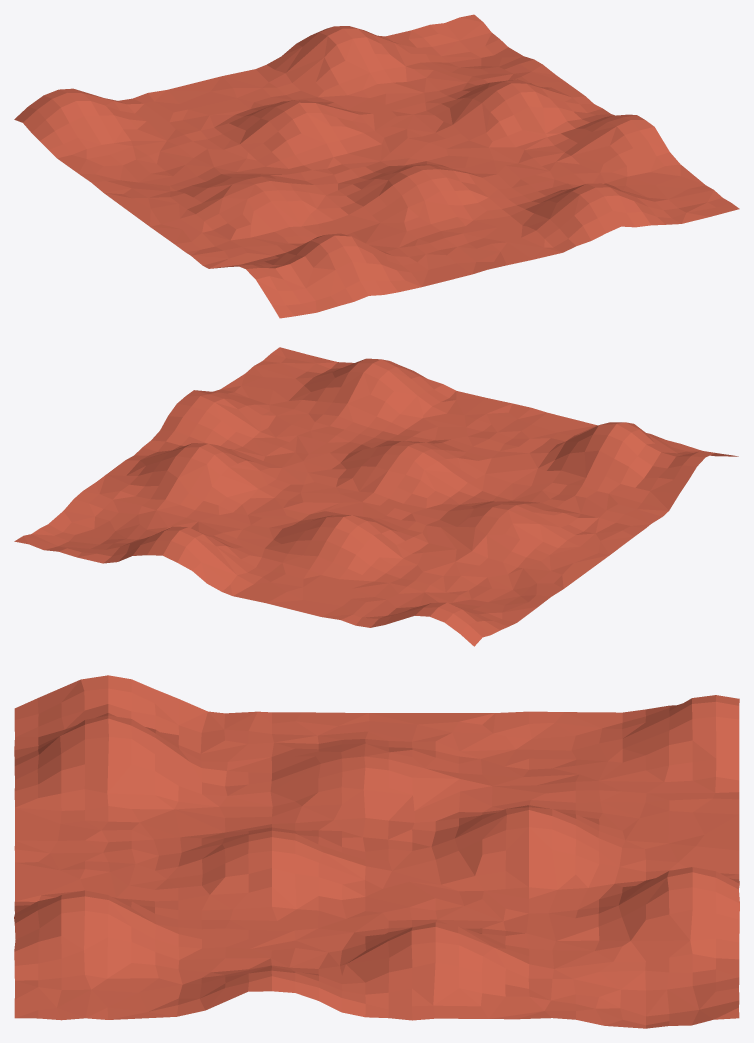
The model's file is Terrain_2.fbx.
The picture shows the model from 3 angles, top to bottom: view 1: azimuth 30°, elevation 25°; view 2: azimuth 150°, elevation 25°; view 3: azimuth 270°, elevation 25°; orthographic projection. The views are drawn at different scales.
Visible parts, largest first — view 1: Terrain2_mesh; view 2: Terrain2_mesh; view 3: Terrain2_mesh.
Part boxes in pixels (x1,y1,x2,y2): Terrain2_mesh: [14, 14, 739, 318]; Terrain2_mesh: [14, 347, 738, 646]; Terrain2_mesh: [14, 675, 739, 1028].
Bounding box in the file's own units: 40038 × 4242 × 40080.
